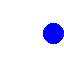circle: (43, 23, 63, 43)
